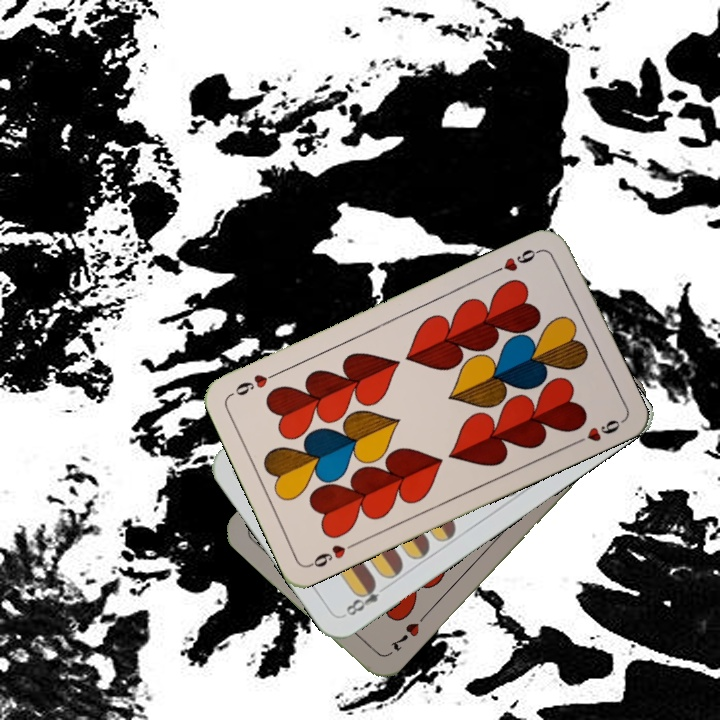E8: (342, 578, 392, 619)
H7: (386, 618, 422, 654)
H9: (305, 537, 361, 570), (489, 244, 546, 276)
